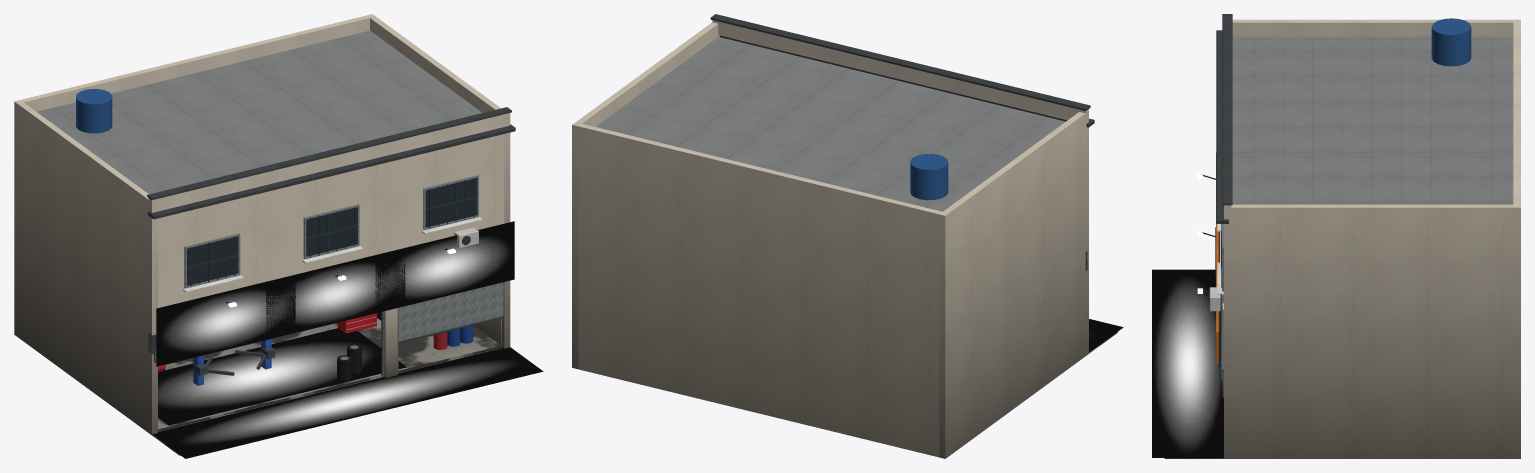
Rendered from LM_SHOP_BengkelAzlan.glb.
The picture shows the model from 3 angles, left to right: view 1: azimuth 30°, elevation 25°; view 2: azimuth 150°, elevation 25°; view 3: azimuth 270°, elevation 25°; orthographic projection. The views are drawn at different scales.
Parts seen in each view (by area): view 1: LM_SHOP_BengkelAzlan | Render wall, LM_SHOP_BengkelAzlan | Night wash, LM_SHOP_BengkelAzlan | Painted panel, LM_SHOP_BengkelAzlan | Upper floor glass, LM_SHOP_BengkelAzlan | Satin metal, LM_SHOP_BengkelAzlan | Workshop floor, LM_SHOP_BengkelAzlan | Roller shutter, LM_SHOP_BengkelAzlan | Plastic, LM_SHOP_BengkelAzlan | Rubber; view 2: LM_SHOP_BengkelAzlan | Render wall, LM_SHOP_BengkelAzlan | Painted panel, LM_SHOP_BengkelAzlan | Plastic, LM_SHOP_BengkelAzlan | Night wash; view 3: LM_SHOP_BengkelAzlan | Render wall, LM_SHOP_BengkelAzlan | Painted panel, LM_SHOP_BengkelAzlan | Night wash, LM_SHOP_BengkelAzlan | Plastic, LM_SHOP_BengkelAzlan | Satin metal.
Boxes of the visible parts, left/top/right/bottom form: LM_SHOP_BengkelAzlan | Render wall: left=14, top=14, right=510, bottom=435; LM_SHOP_BengkelAzlan | Night wash: left=152, top=221, right=543, bottom=458; LM_SHOP_BengkelAzlan | Painted panel: left=37, top=30, right=515, bottom=385; LM_SHOP_BengkelAzlan | Upper floor glass: left=187, top=178, right=476, bottom=285; LM_SHOP_BengkelAzlan | Satin metal: left=154, top=175, right=503, bottom=376; LM_SHOP_BengkelAzlan | Workshop floor: left=152, top=318, right=501, bottom=455; LM_SHOP_BengkelAzlan | Roller shutter: left=398, top=282, right=503, bottom=341; LM_SHOP_BengkelAzlan | Plastic: left=76, top=89, right=473, bottom=349; LM_SHOP_BengkelAzlan | Rubber: left=337, top=344, right=361, bottom=380; LM_SHOP_BengkelAzlan | Render wall: left=572, top=20, right=1088, bottom=458; LM_SHOP_BengkelAzlan | Painted panel: left=595, top=14, right=1094, bottom=271; LM_SHOP_BengkelAzlan | Plastic: left=910, top=154, right=948, bottom=200; LM_SHOP_BengkelAzlan | Night wash: left=1089, top=319, right=1123, bottom=352; LM_SHOP_BengkelAzlan | Render wall: left=1222, top=19, right=1520, bottom=458; LM_SHOP_BengkelAzlan | Painted panel: left=1209, top=14, right=1513, bottom=369; LM_SHOP_BengkelAzlan | Night wash: left=1152, top=269, right=1223, bottom=457; LM_SHOP_BengkelAzlan | Plastic: left=1209, top=18, right=1471, bottom=302; LM_SHOP_BengkelAzlan | Satin metal: left=1201, top=174, right=1223, bottom=380.
Bounding box in the file's own units: 18.2 × 12 × 14.9.
10 materials, 6 textured.
